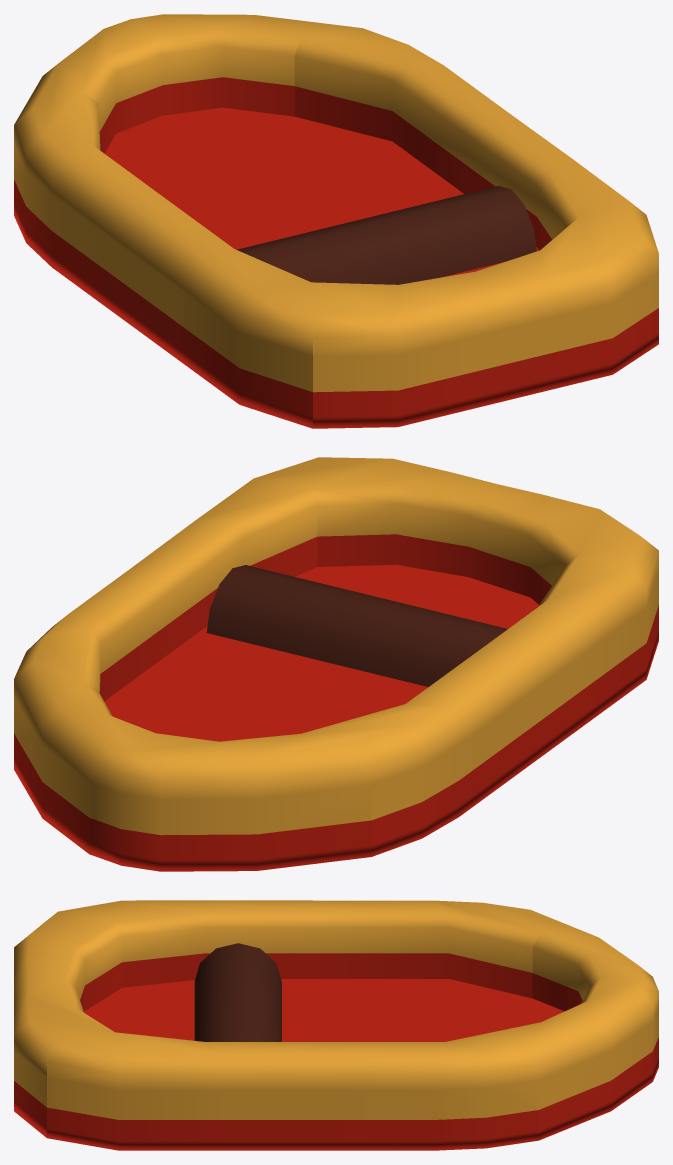
Rendered from raft_fbx.fbx.
3 renders of one model, top to bottom at view 1: azimuth 30°, elevation 25°; view 2: azimuth 150°, elevation 25°; view 3: azimuth 270°, elevation 25°, orthographic. The views are drawn at different scales.
Parts seen in each view (by area): view 1: pCube2; view 2: pCube2; view 3: pCube2.
Boxes of the visible parts, bbox=[...] form: pCube2: bbox=[14, 14, 658, 428]; pCube2: bbox=[14, 457, 658, 871]; pCube2: bbox=[14, 900, 658, 1150].
Size of the model in its own units: 6.51 by 1.64 by 10.64.
